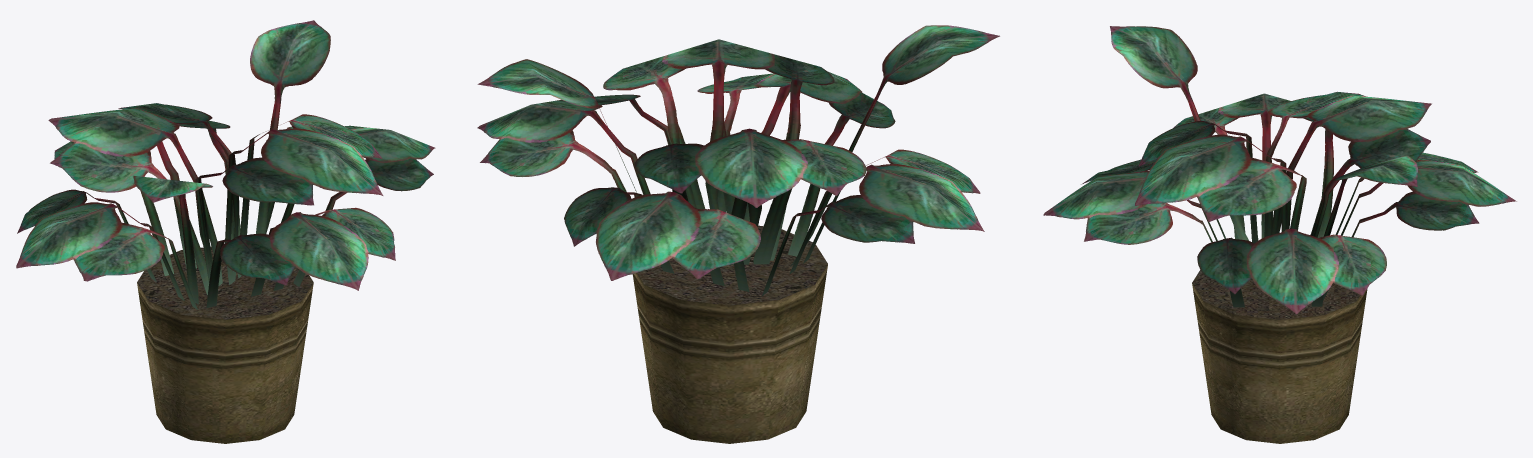
Rendered from frn_all_potted_plants_sml_s04_l0.fbx.
3 views of the same model, side by side, from view 1: azimuth 30°, elevation 25°; view 2: azimuth 150°, elevation 25°; view 3: azimuth 270°, elevation 25° (orthographic). The views are drawn at different scales.
Parts seen in each view (by area): view 1: mesh_node; view 2: mesh_node; view 3: mesh_node.
Boxes of the visible parts, <box> form: mesh_node: <box>16,20,435,443</box>; mesh_node: <box>477,25,999,443</box>; mesh_node: <box>1043,26,1516,443</box>.
Size of the model in its own units: 1.49 by 1.02 by 1.4.
